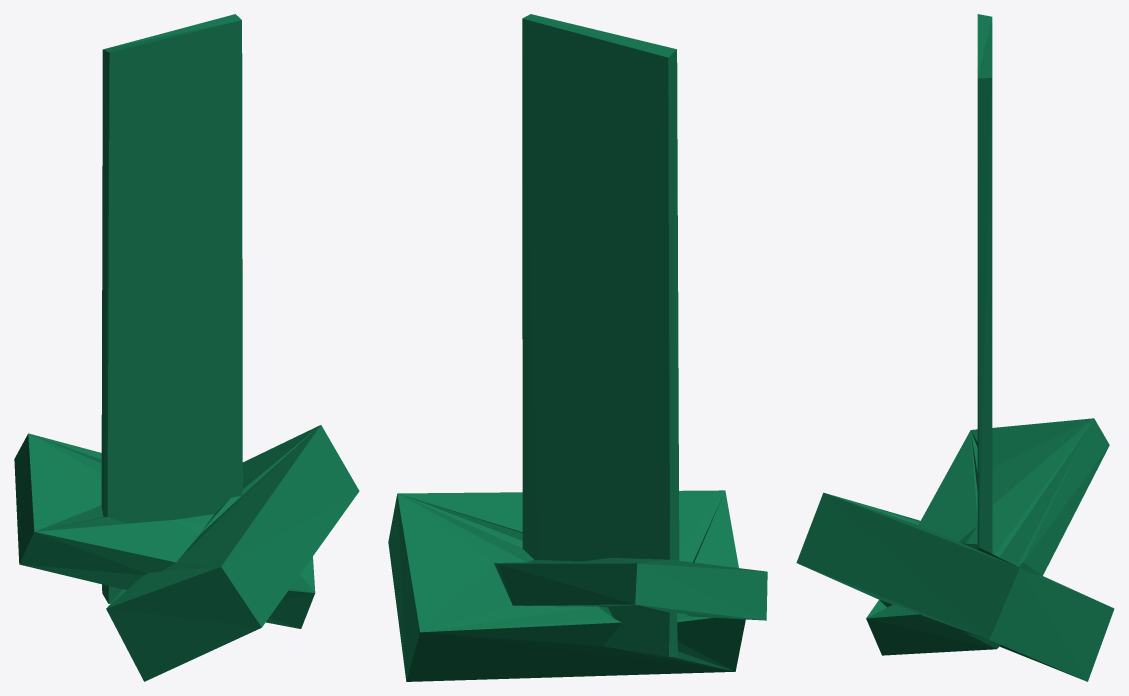
3 views of the same model, side by side, from view 1: azimuth 30°, elevation 25°; view 2: azimuth 150°, elevation 25°; view 3: azimuth 270°, elevation 25° (orthographic). The views are drawn at different scales.
Visible parts, largest first — view 1: 470_Cube.1907; view 2: 470_Cube.1907; view 3: 470_Cube.1907.
Part boxes in pixels (x1=…): 470_Cube.1907: x1=14, y1=14, x2=359, y2=681; 470_Cube.1907: x1=388, y1=14, x2=767, y2=681; 470_Cube.1907: x1=796, y1=14, x2=1114, y2=681.
Size of the model in its own units: 7.94 by 13.21 by 6.44.
